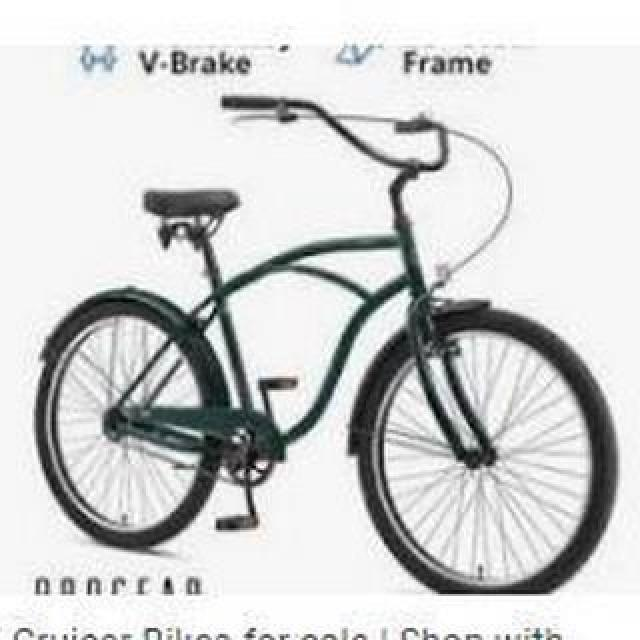Person: (36, 82, 628, 600)
